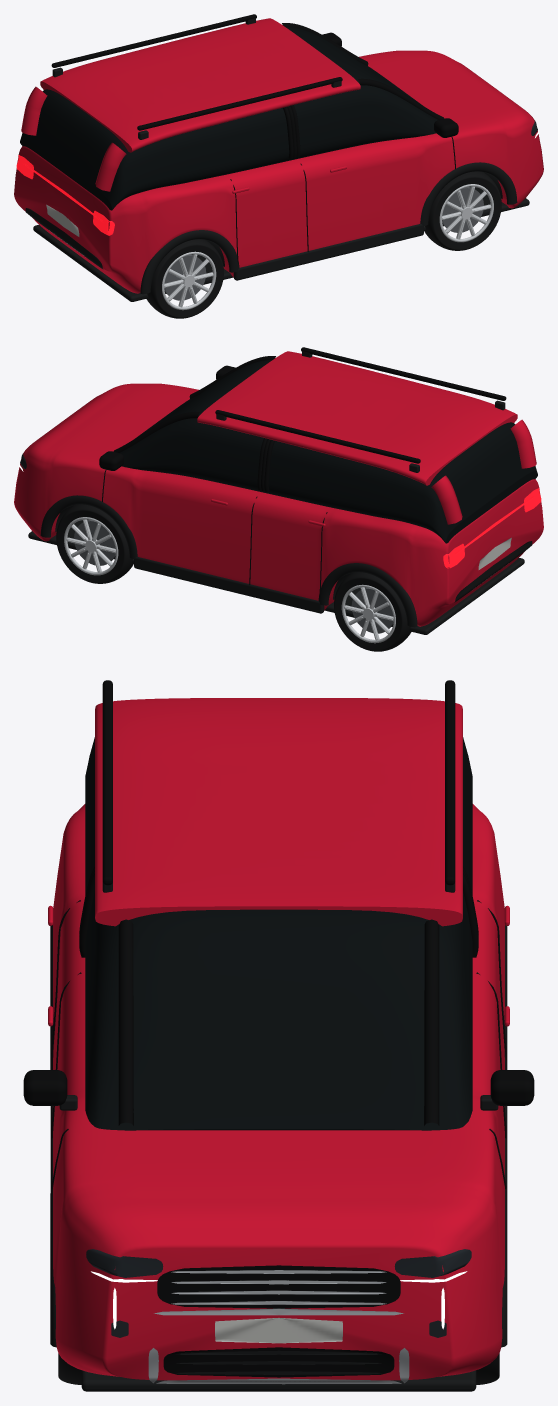
The model's file is kia-sonet.glb.
The picture shows the model from 3 angles, top to bottom: view 1: azimuth 30°, elevation 25°; view 2: azimuth 150°, elevation 25°; view 3: azimuth 270°, elevation 25°; orthographic projection. The views are drawn at different scales.
Parts seen in each view (by area): view 1: Body, Glasshouse, Roof, Trim (×5), Tyre (×2), GlossBlack (×3), Pillar (×3), Disc (×2), Rim (×2); view 2: Body, Glasshouse, Roof, Trim (×5), Tyre (×2), GlossBlack (×3), Pillar (×3), Disc (×2), Rim (×2); view 3: Body, Glasshouse, Roof, GlossBlack (×6), Pillar (×2), Trim, Plate, Headlamp (×2), Silver (×2).
Boxes of the visible parts, left/top/right/bottom form: Body: left=14, top=50, right=543, bottom=293; Glasshouse: left=20, top=27, right=438, bottom=210; Roof: left=40, top=18, right=360, bottom=152; Trim (×5): left=25, top=162, right=529, bottom=301; Tyre (×2): left=146, top=171, right=501, bottom=318; GlossBlack (×3): left=51, top=14, right=458, bottom=137; Pillar (×3): left=21, top=78, right=444, bottom=191; Disc (×2): left=164, top=187, right=483, bottom=300; Rim (×2): left=162, top=184, right=493, bottom=310; Body: left=14, top=383, right=543, bottom=626; Glasshouse: left=119, top=360, right=537, bottom=543; Roof: left=197, top=351, right=517, bottom=485; Trim (×5): left=28, top=495, right=532, bottom=634; Tyre (×2): left=56, top=504, right=411, bottom=651; GlossBlack (×3): left=99, top=347, right=506, bottom=470; Pillar (×3): left=113, top=411, right=536, bottom=524; Disc (×2): left=74, top=520, right=393, bottom=633; Rim (×2): left=64, top=517, right=395, bottom=643; Body: left=53, top=804, right=504, bottom=1380; Glasshouse: left=85, top=737, right=472, bottom=1130; Roof: left=95, top=698, right=462, bottom=926; GlossBlack (×6): left=23, top=680, right=534, bottom=1377; Pillar (×2): left=118, top=919, right=439, bottom=1125; Trim: left=81, top=1370, right=476, bottom=1391; Plate: left=215, top=1318, right=342, bottom=1343; Headlamp (×2): left=86, top=1249, right=471, bottom=1277; Silver (×2): left=154, top=1308, right=403, bottom=1384.
Bounding box in the file's own units: 3.98 × 1.67 × 1.99.
